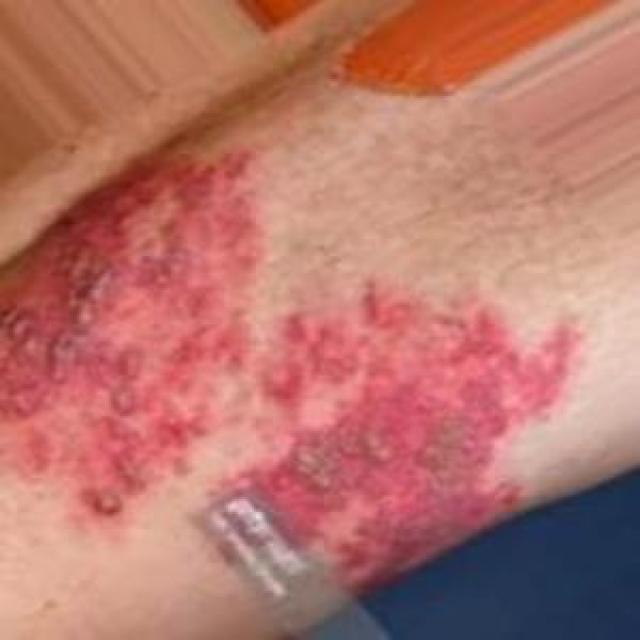Shingles: (245, 271, 579, 593), (0, 144, 265, 534)
